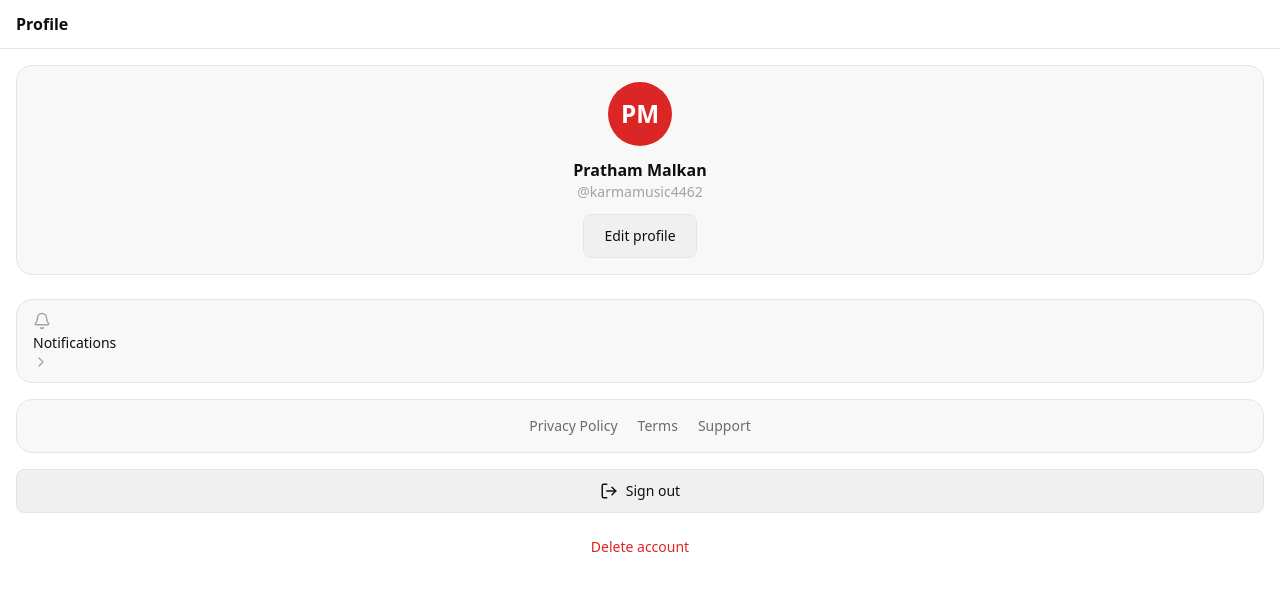
Test: ProfilePage › 1. Profile save succeeds with valid editable fields and converts empty upi_id/bio to null
Click the button "Edit profile" at (640, 236), box [583,214,697,258]
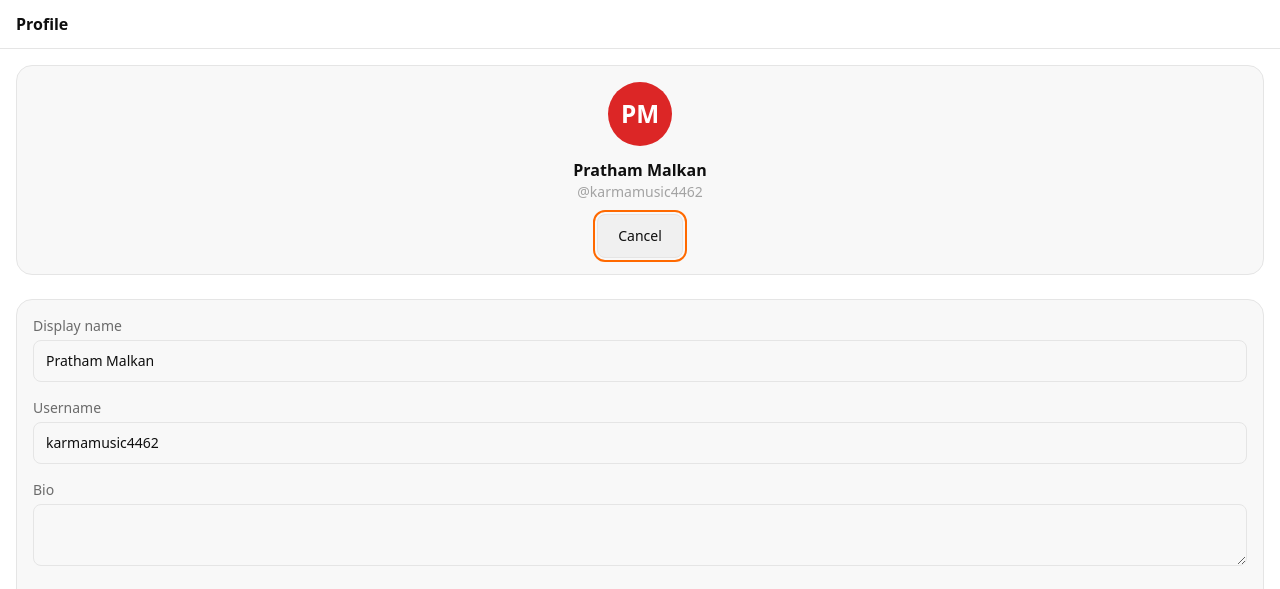
Replace the text in the field named "Username" with "karma7" at (640, 443), box [33,422,1247,464]
(page scrolled)
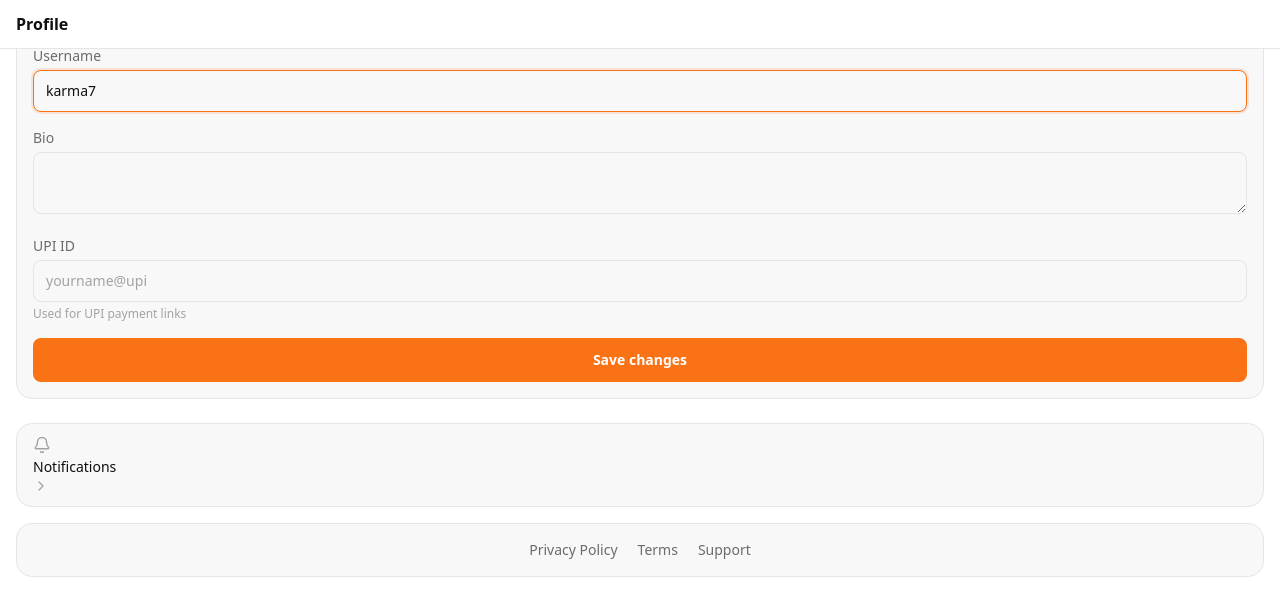
Click the button "Save changes" at (640, 360), box [33,338,1247,382]
(page scrolled)
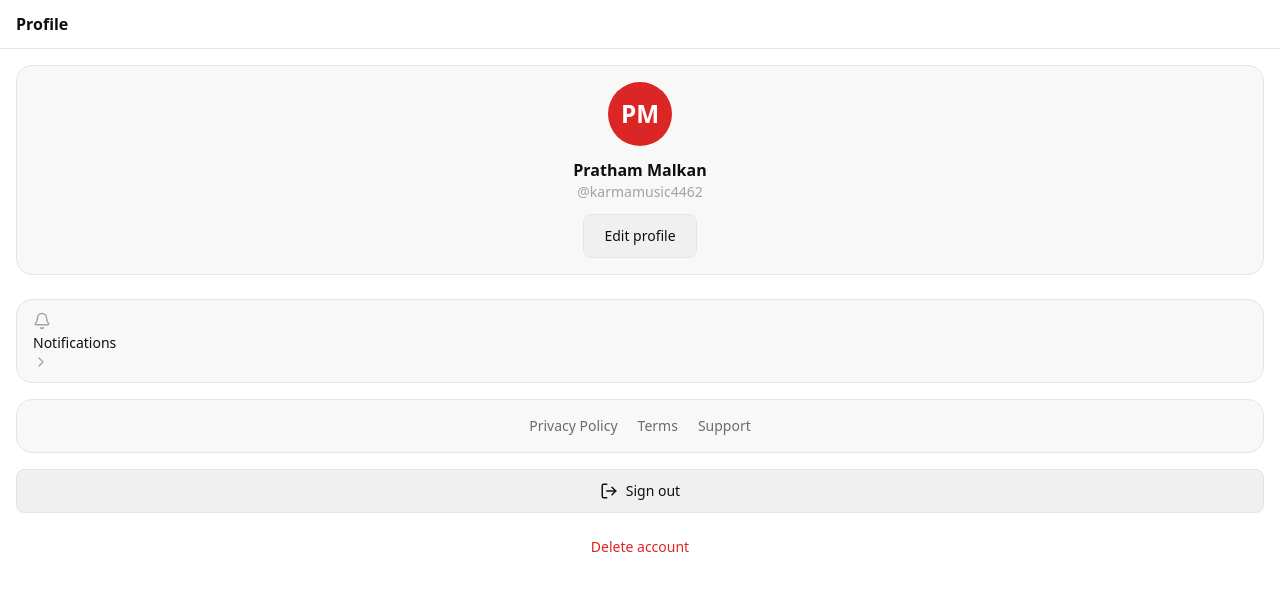
expect the button "Save changes" is gone: met
